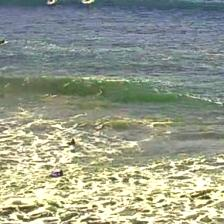surfer: (68, 138, 76, 146), (57, 169, 65, 177), (1, 38, 5, 44), (48, 0, 55, 3), (84, 0, 91, 2)
